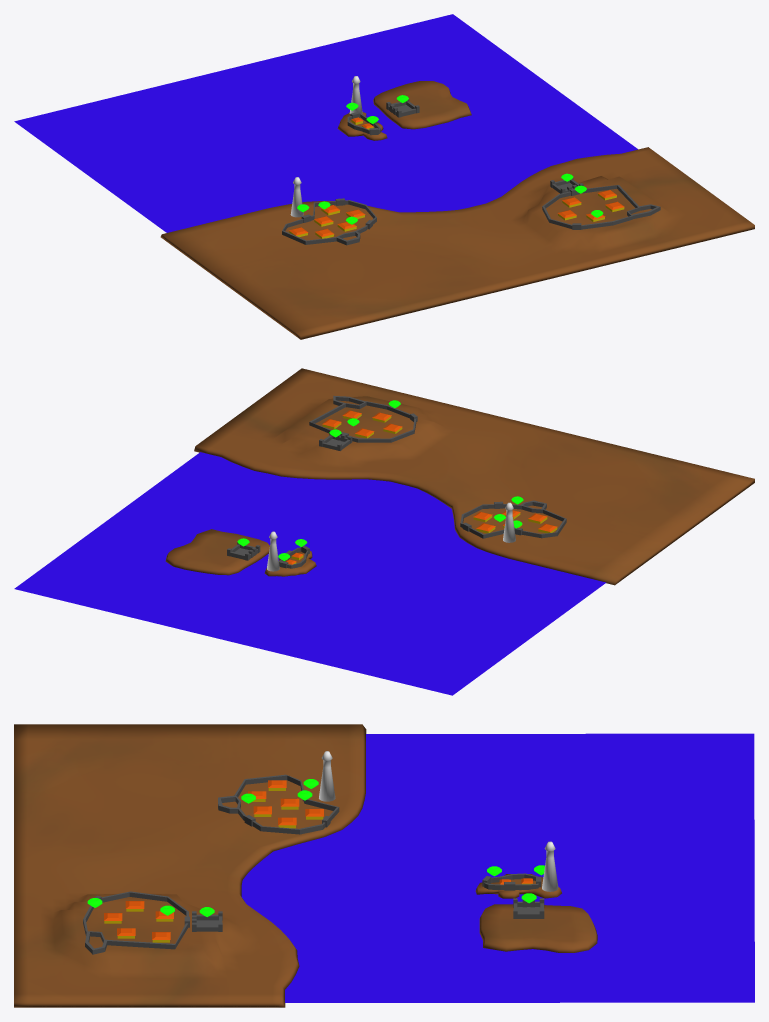
File: WorldMap.dae
3 views of the same model, one above another, from view 1: azimuth 30°, elevation 25°; view 2: azimuth 150°, elevation 25°; view 3: azimuth 270°, elevation 25° (orthographic). The views are drawn at different scales.
Visible parts, largest first — view 1: WorldMapSea, WorldMapGroundMain, WorldMapTown02, WorldMapTown01; view 2: WorldMapSea, WorldMapGroundMain, WorldMapTown01, WorldMapTown02; view 3: WorldMapSea, WorldMapGroundMain, WorldMapTown02, WorldMapTown01, WorldMapTown03, WorldMapCastle02, WorldMapCitadel, WorldMapLightHouse, WorldMapCastle01.
Part boxes in pixels (<box>): WorldMapSea: <box>14,14,637,232</box>; WorldMapGroundMain: <box>160,81,754,339</box>; WorldMapTown02: <box>282,198,376,245</box>; WorldMapTown01: <box>542,185,660,229</box>; WorldMapSea: <box>14,452,606,695</box>; WorldMapGroundMain: <box>165,368,754,585</box>; WorldMapTown01: <box>309,395,417,442</box>; WorldMapTown02: <box>460,500,566,538</box>; WorldMapSea: <box>241,733,754,1002</box>; WorldMapGroundMain: <box>14,724,597,1007</box>; WorldMapTown02: <box>218,774,339,834</box>; WorldMapTown01: <box>83,891,189,954</box>; WorldMapTown03: <box>482,873,541,890</box>; WorldMapCastle02: <box>513,898,544,918</box>; WorldMapCitadel: <box>319,751,335,801</box>; WorldMapLightHouse: <box>542,841,558,891</box>; WorldMapCastle01: <box>192,911,222,931</box>.
Bounding box in the file's own units: 248 × 279 × 21.79.
7 materials, 1 textured.
